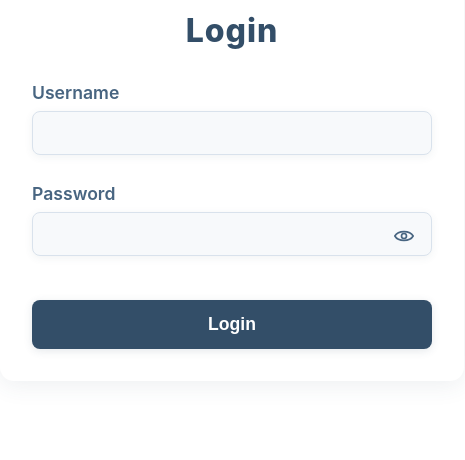
Scenario: Login page › shows an error message when login fails
In the field labelled "Username": {"x": 232, "y": 132} [32,110,432,154], type "baduser"
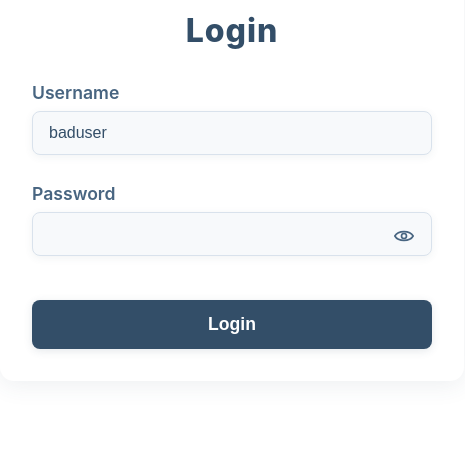
In the password field labelled "Password": {"x": 232, "y": 234} [32,212,432,256], type "badpass"
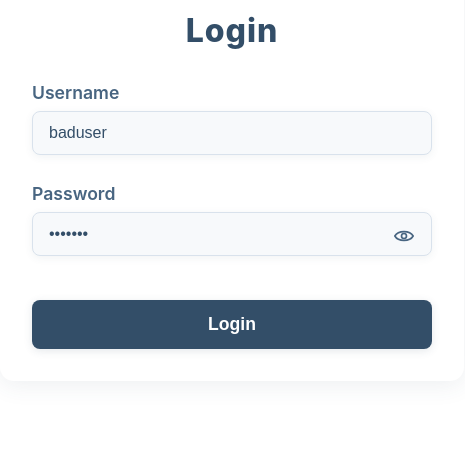
Click the button "Login": {"x": 232, "y": 324} [32,300,432,348]
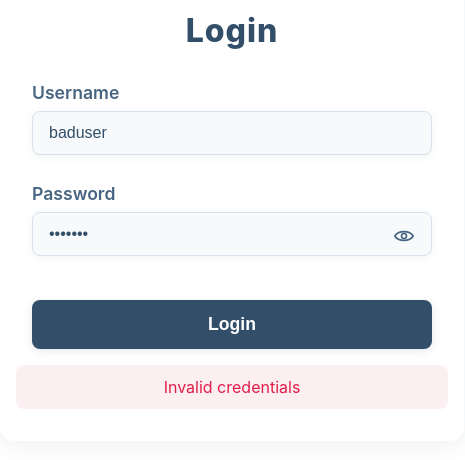
Check: the text "Invalid credentials" is shown, box [16,364,448,408]
